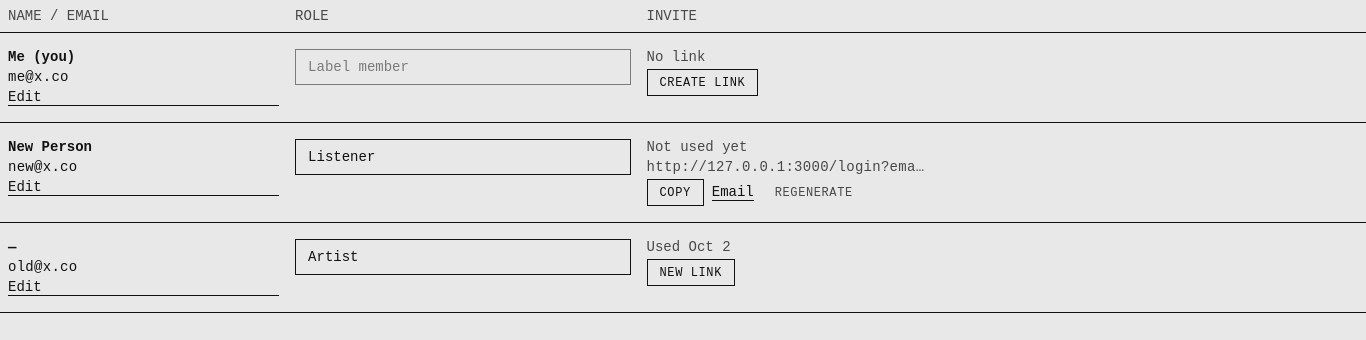
Test: UsersTable › recovers when issueInvite throws (network drop)
Click the button "Create link": [702, 83] box [646,69,758,96]
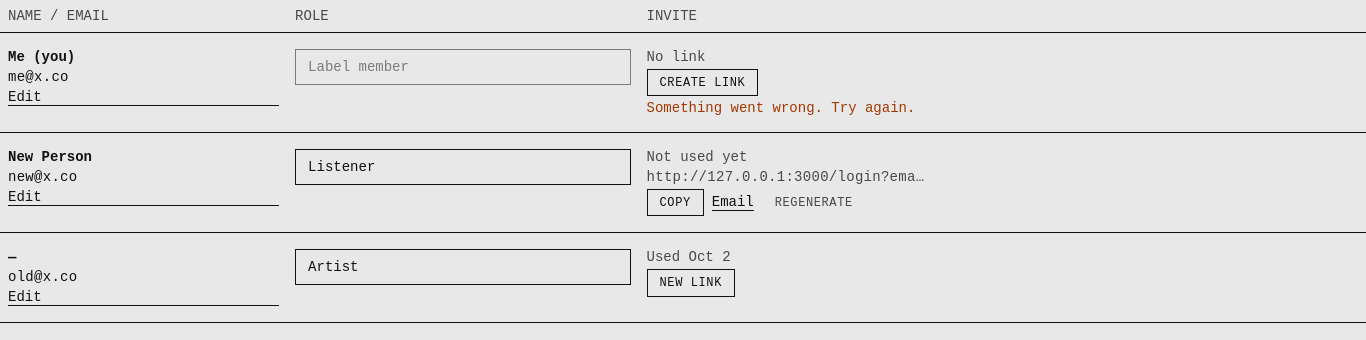
Check: the message shows "Something went wrong", box [646,100,915,116]
